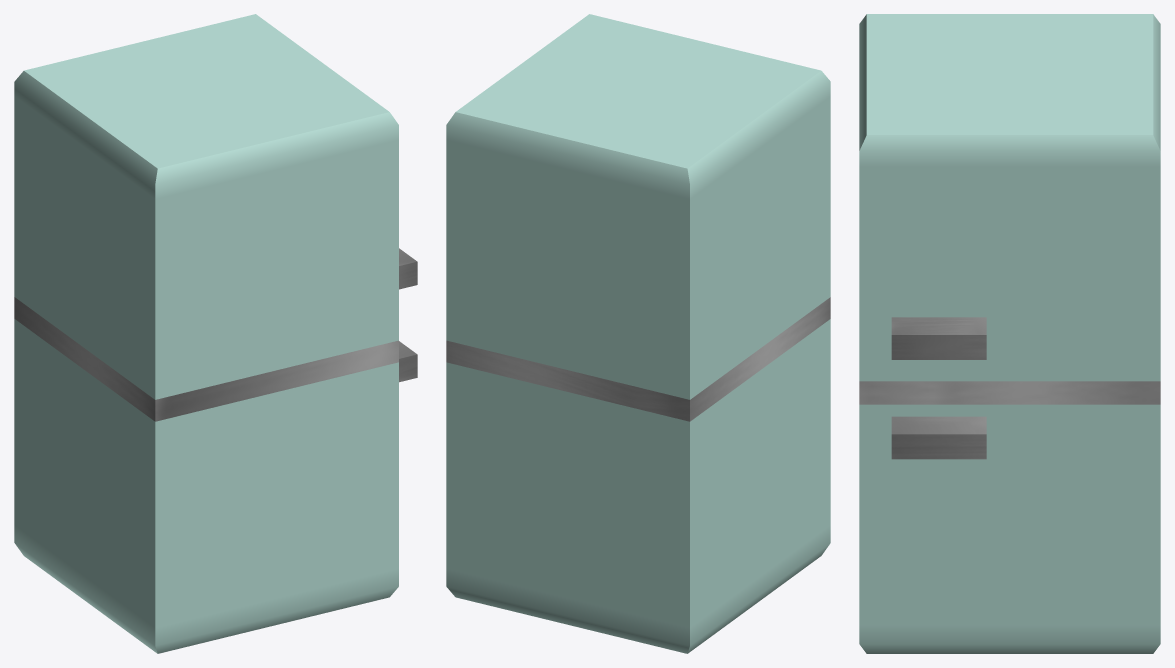
The model's file is refrigerator.fbx.
The picture shows the model from 3 angles, left to right: view 1: azimuth 30°, elevation 25°; view 2: azimuth 150°, elevation 25°; view 3: azimuth 270°, elevation 25°; orthographic projection. The views are drawn at different scales.
Parts seen in each view (by area): view 1: pCube4; view 2: pCube4; view 3: pCube4.
Part boxes in pixels (x1,y1,x2,y2): pCube4: (14,14,417,653); pCube4: (446,14,830,653); pCube4: (859,14,1160,653).
Size of the model in its own units: 61.4 by 103 by 53.99.
1 material, 1 textured.
